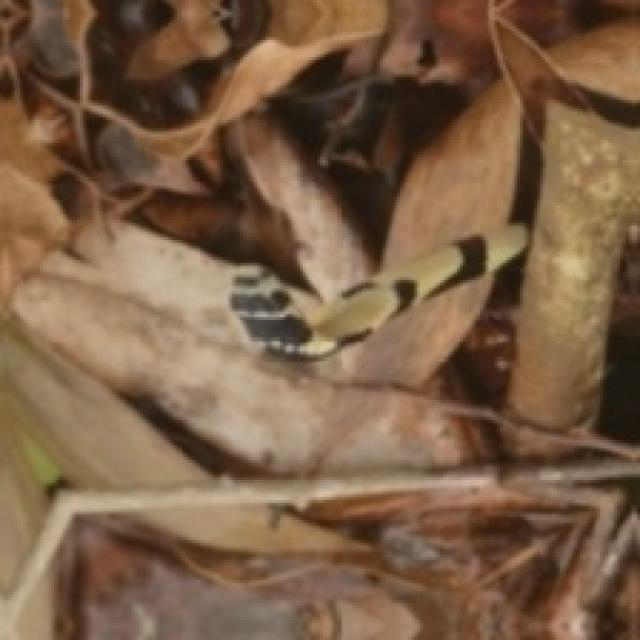king cobra: (229, 223, 526, 357)
